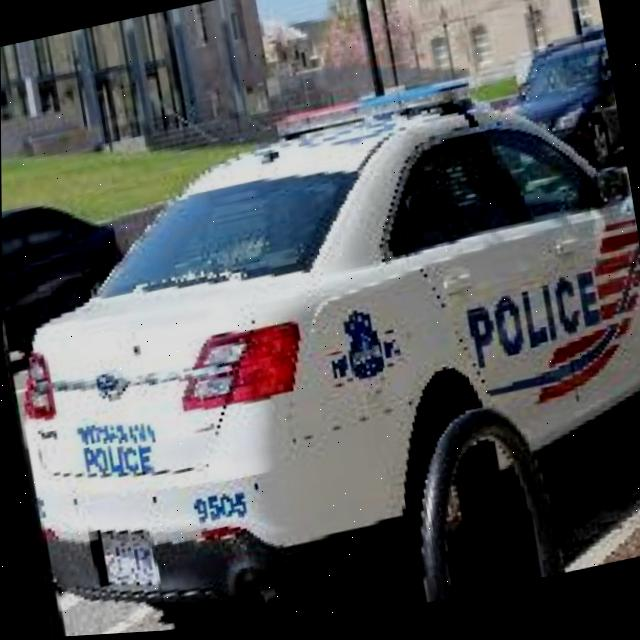emergency: (0, 55, 640, 640)
